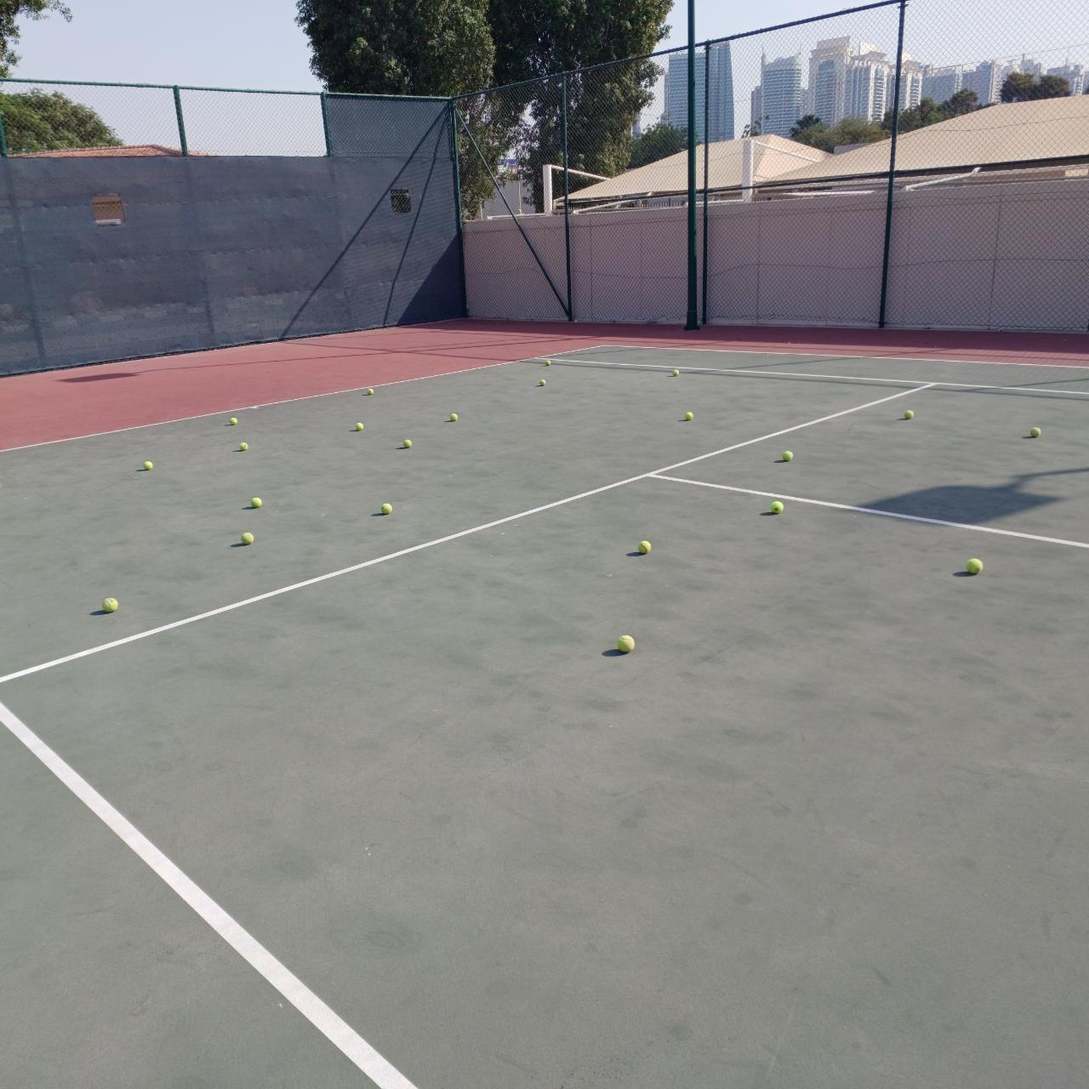tennis-ball: (616, 634, 635, 653), (965, 557, 983, 574), (101, 595, 118, 612), (637, 538, 651, 554), (770, 500, 784, 514), (241, 532, 254, 545), (380, 502, 393, 514), (250, 496, 262, 509), (783, 450, 794, 461), (1030, 427, 1041, 438), (143, 460, 153, 470), (904, 409, 914, 419), (239, 442, 248, 452), (685, 411, 694, 421), (403, 439, 412, 448), (450, 413, 458, 422), (230, 417, 238, 425), (672, 369, 680, 377), (356, 422, 363, 431), (539, 379, 546, 386), (367, 389, 374, 395), (545, 360, 551, 366)
